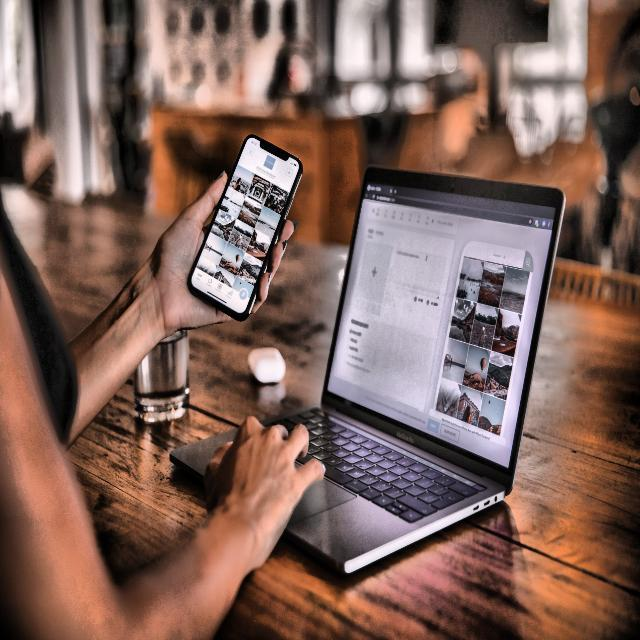Phone: (186, 130, 304, 324)
